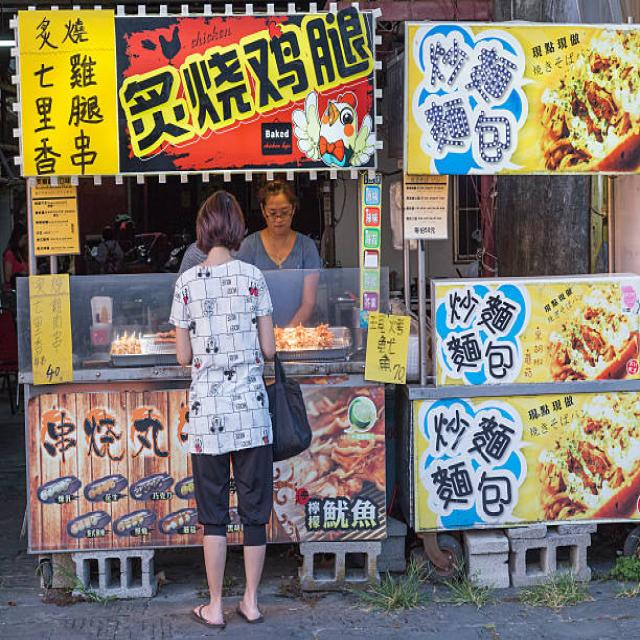Emperan: (1, 5, 388, 542)
